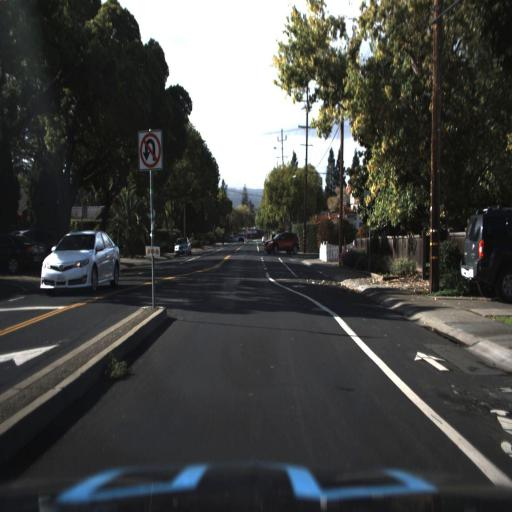car: (32, 226, 126, 300), (460, 206, 512, 303), (265, 231, 302, 258), (172, 235, 192, 255)
